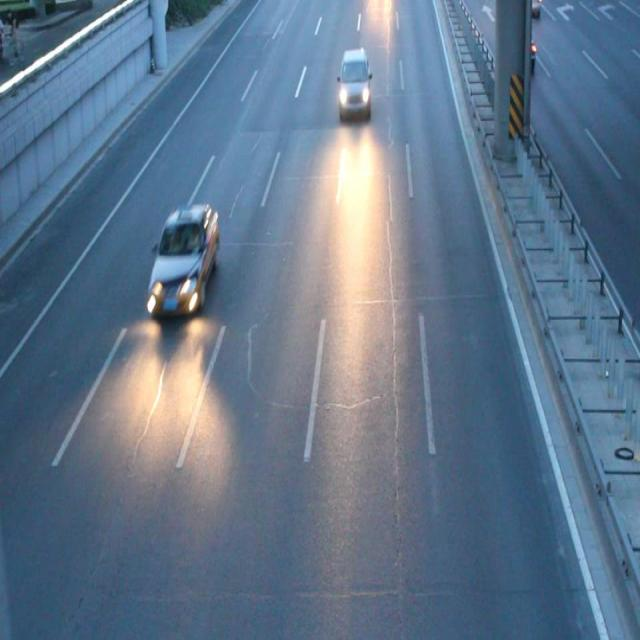car: (146, 204, 218, 316), (336, 48, 371, 118)
